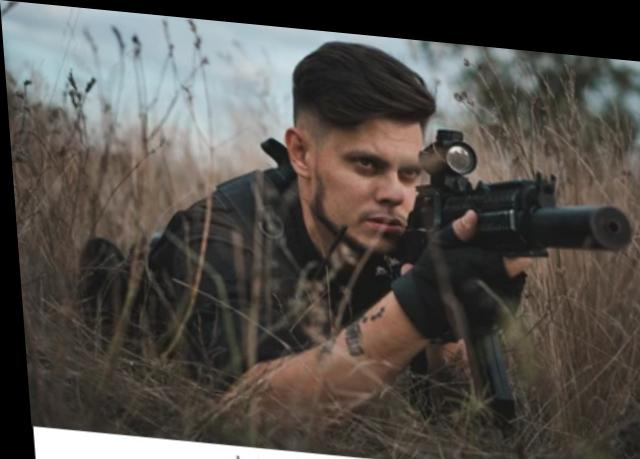other: (180, 37, 542, 430)
